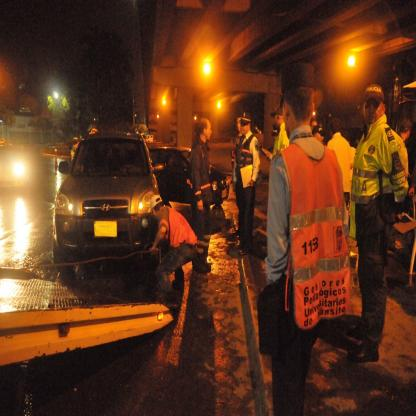Car: (54, 135, 167, 265), (147, 145, 230, 208), (1, 144, 31, 185)
